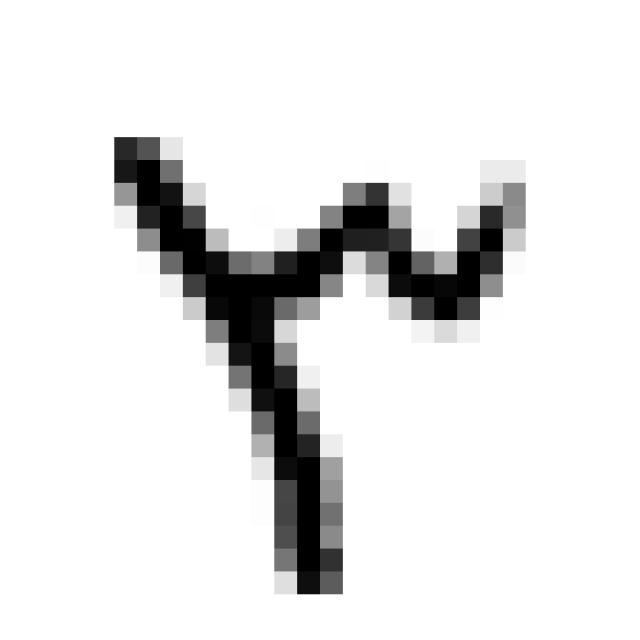3 -three-: (85, 112, 543, 611)
